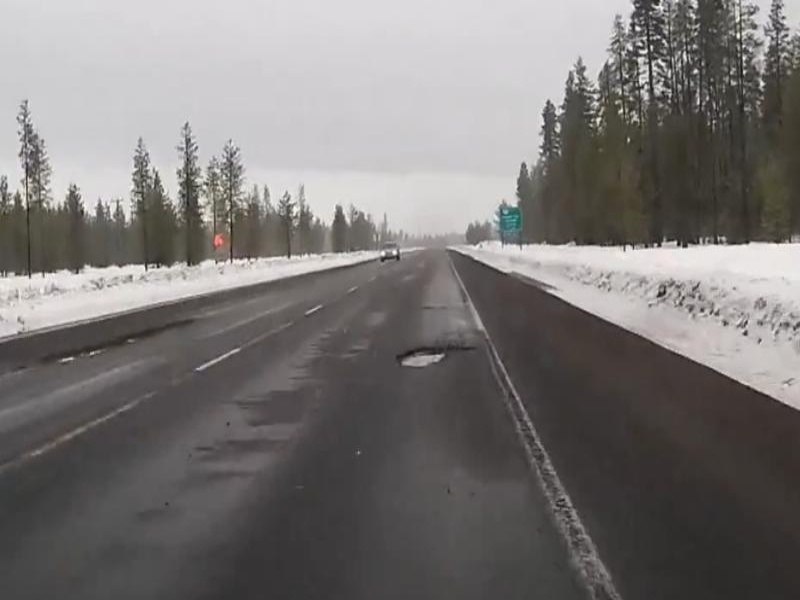pothole: (391, 342, 458, 372)
